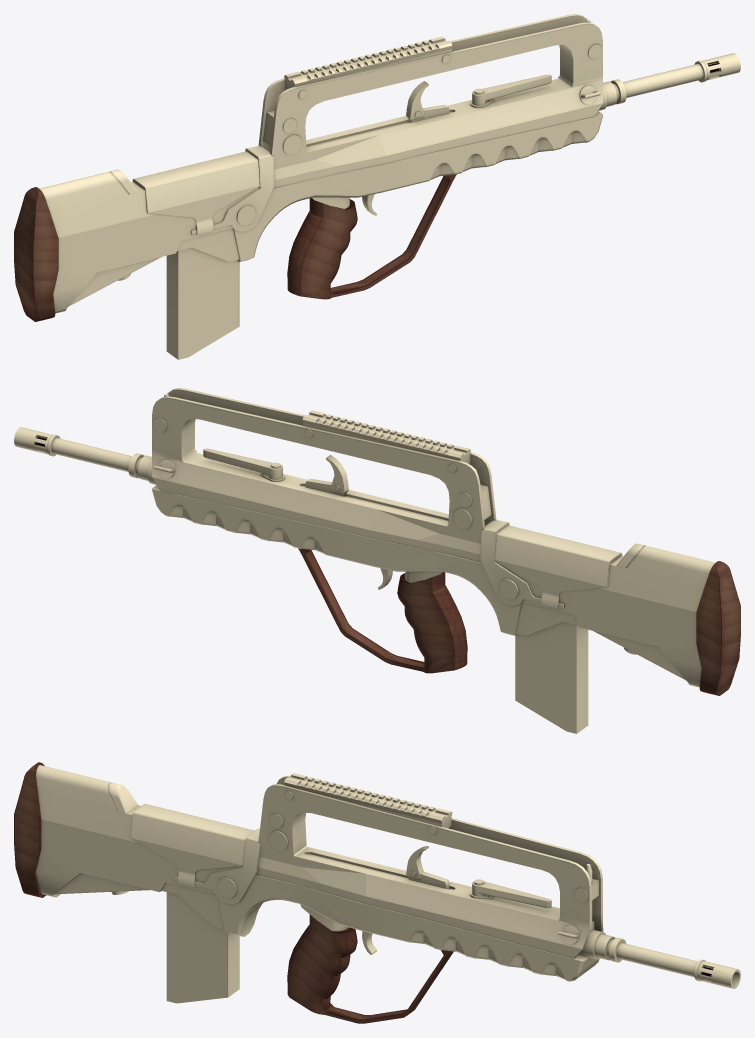
File: weapon_15_5.gltf
3 views of the same model, one above another, from view 1: azimuth 30°, elevation 25°; view 2: azimuth 150°, elevation 25°; view 3: azimuth 330°, elevation 25° (orthographic).
Parts seen in each view (by area): view 1: Torus.000_Torus.005; view 2: Torus.000_Torus.005; view 3: Torus.000_Torus.005.
Part boxes in pixels (x1,y1,x2,y2): Torus.000_Torus.005: (14, 14, 740, 359); Torus.000_Torus.005: (14, 388, 740, 733); Torus.000_Torus.005: (14, 762, 740, 1023).
Bounding box in the file's own units: 9950 × 3326 × 664.
1 material, 1 textured.
